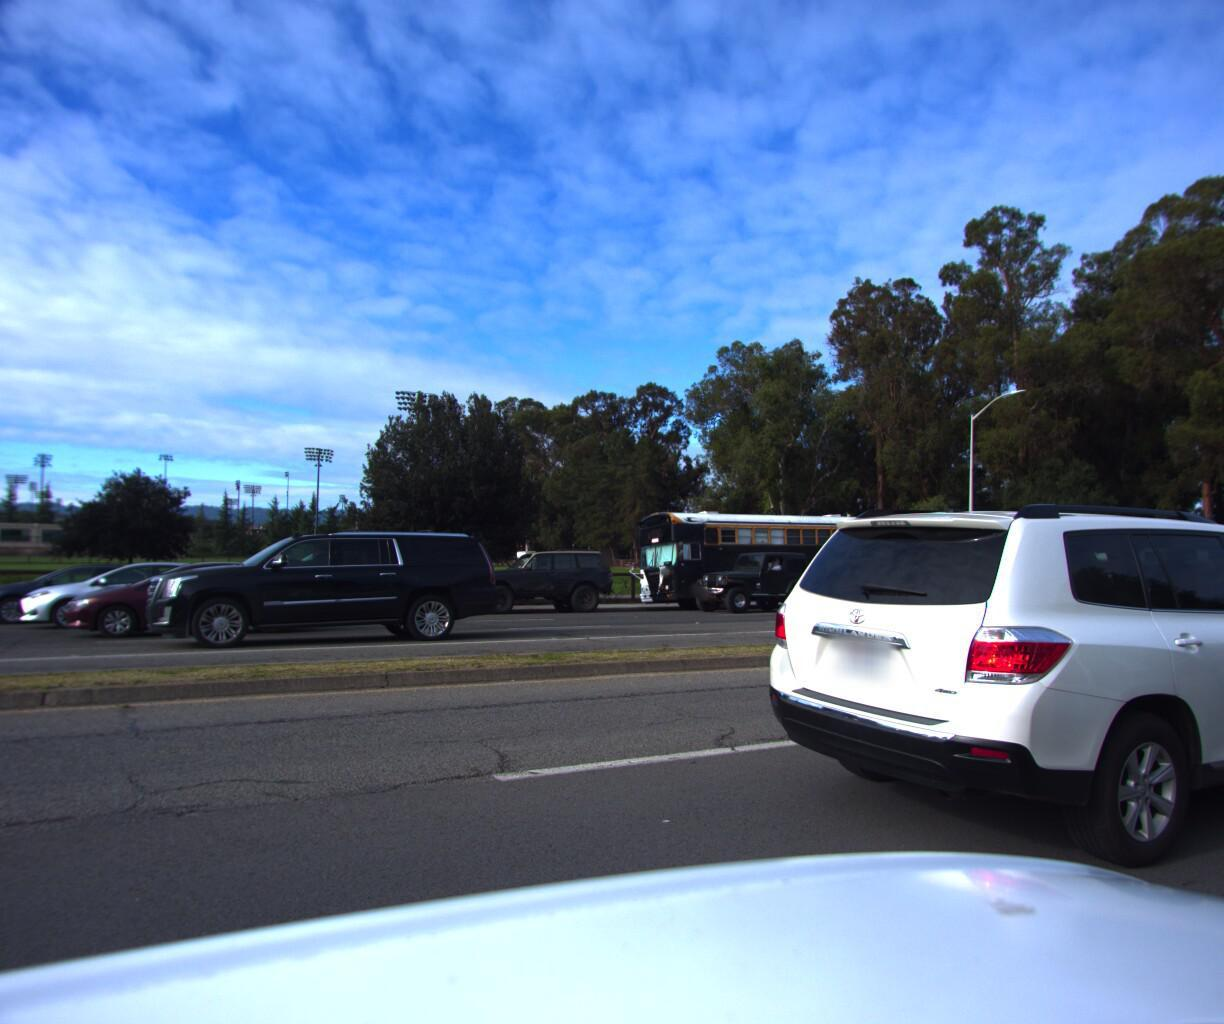bus: (611, 495, 905, 617)
car: (719, 477, 1224, 948), (125, 517, 502, 654), (44, 559, 280, 641), (0, 554, 222, 631), (0, 558, 196, 631), (447, 543, 620, 616), (685, 548, 827, 614)
other_vehicle: (1042, 522, 1213, 598)
